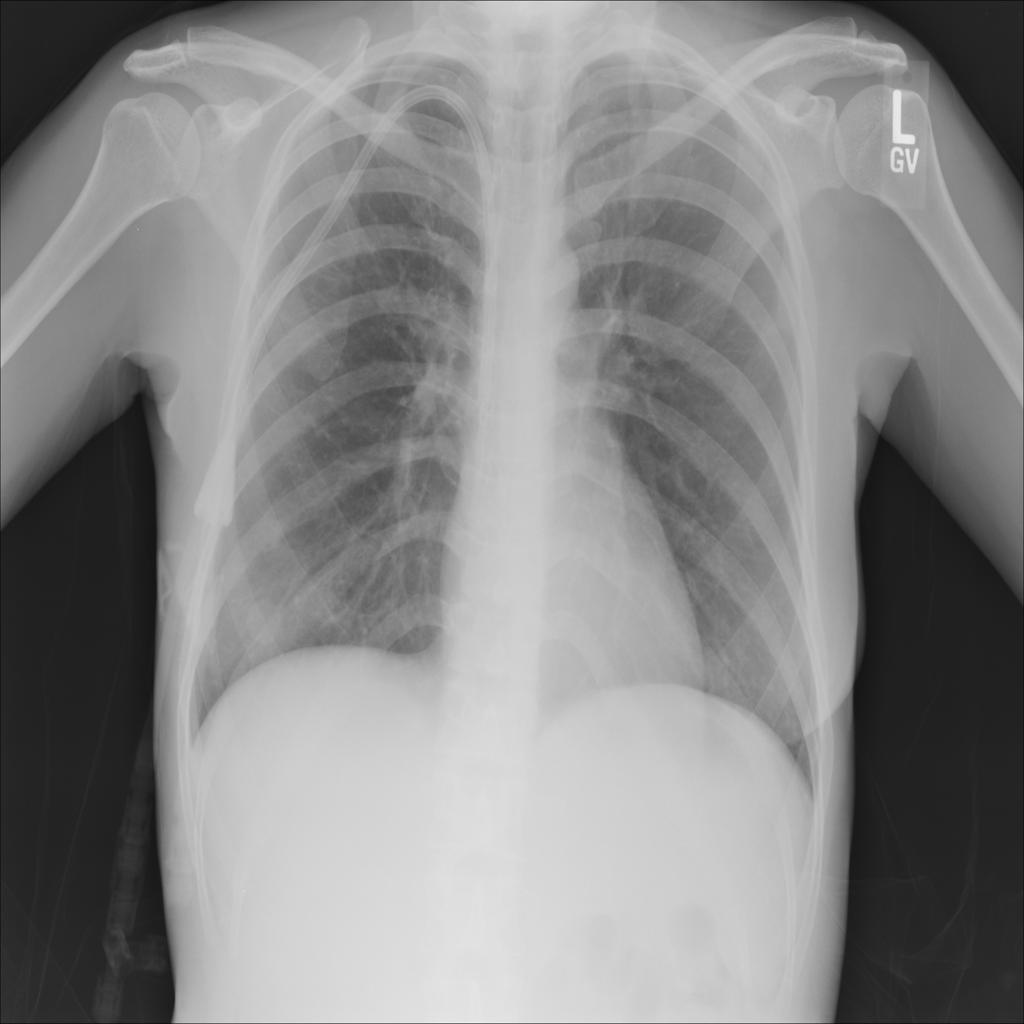nodule: (227, 586, 300, 664)
